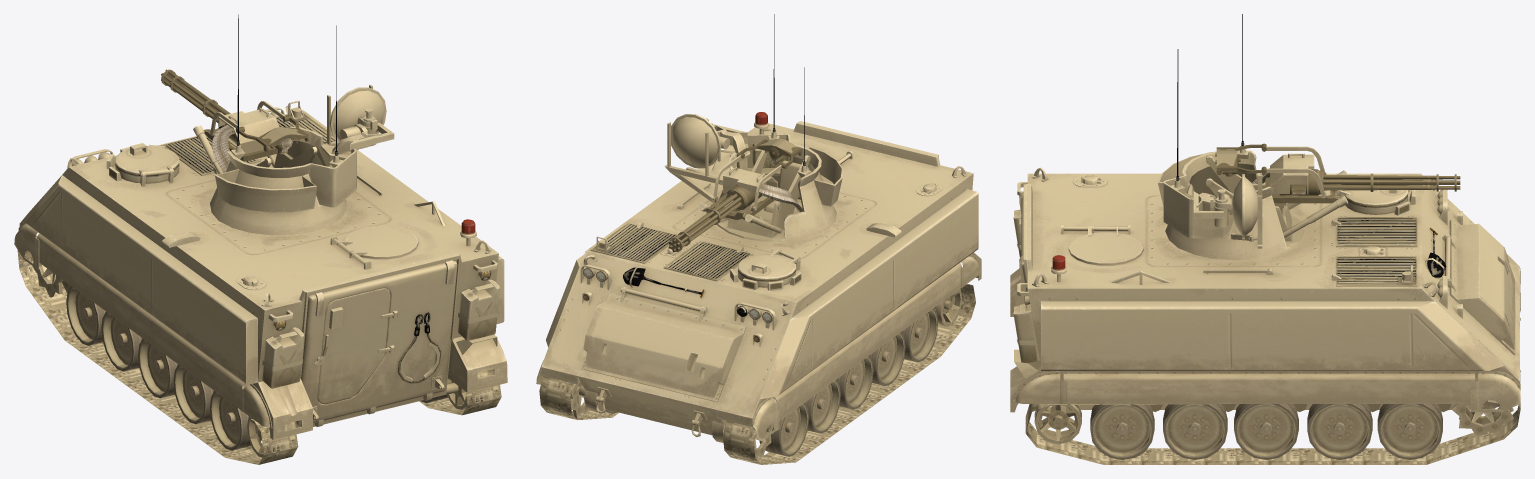
3 views of the same model, side by side, from view 1: azimuth 30°, elevation 25°; view 2: azimuth 150°, elevation 25°; view 3: azimuth 270°, elevation 25° (orthographic). The views are drawn at different scales.
Visible parts, largest first — view 1: V_m163; view 2: V_m163; view 3: V_m163.
Boxes of the visible parts, x1,y1,x2,y2 form: V_m163: [14, 14, 507, 464]; V_m163: [536, 14, 981, 464]; V_m163: [1010, 14, 1520, 464].
Bounding box in the file's own units: 8 × 11.03 × 13.61.
1 material, 1 textured.
